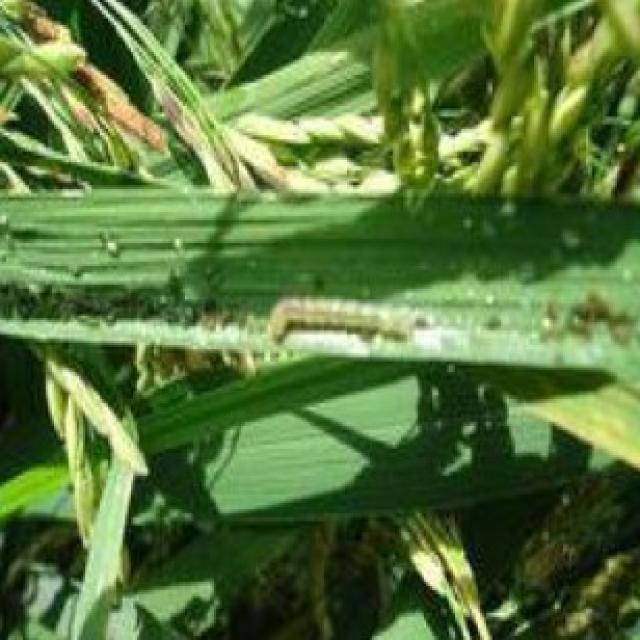rice leaf roller: (270, 297, 428, 341)
